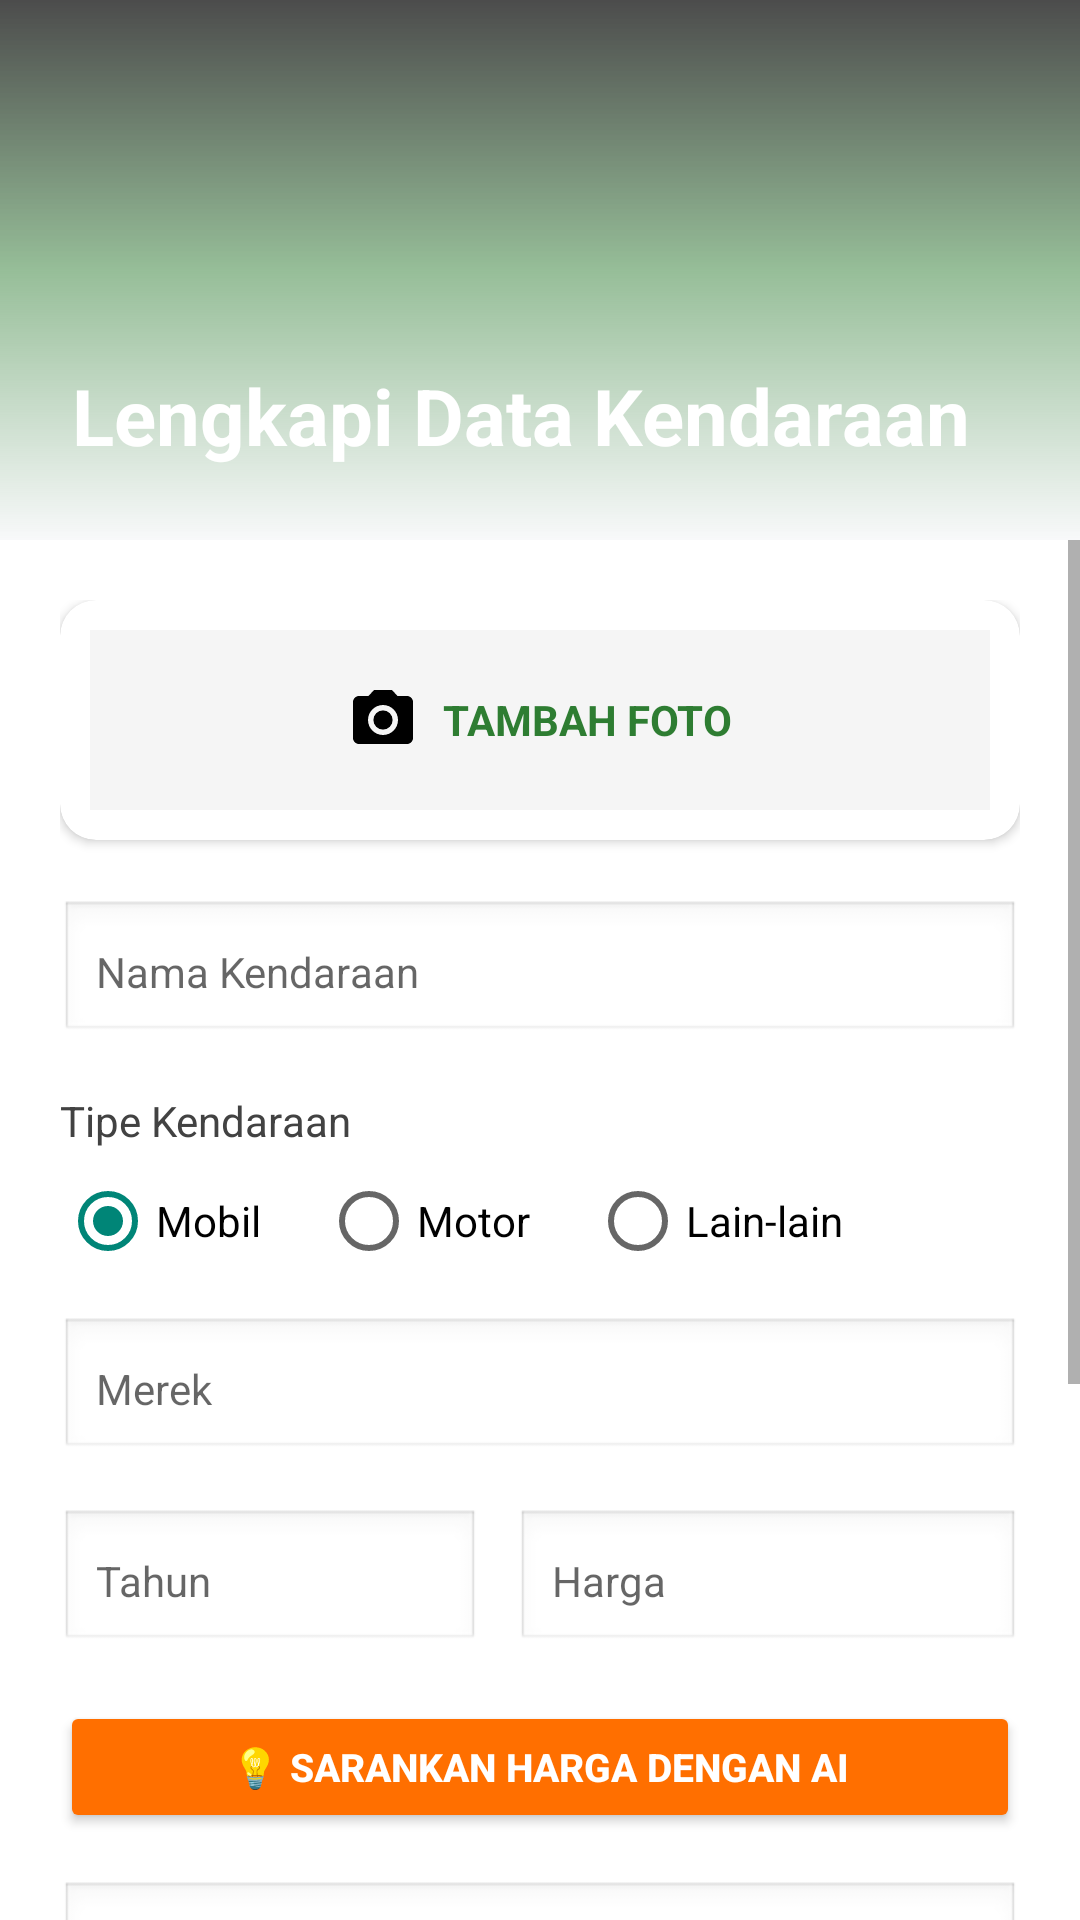

Screen size 1080 × 1920. Icon name, then its box in pixels as (x1, y1, x2, y2):
camera: (353, 690, 413, 744)
